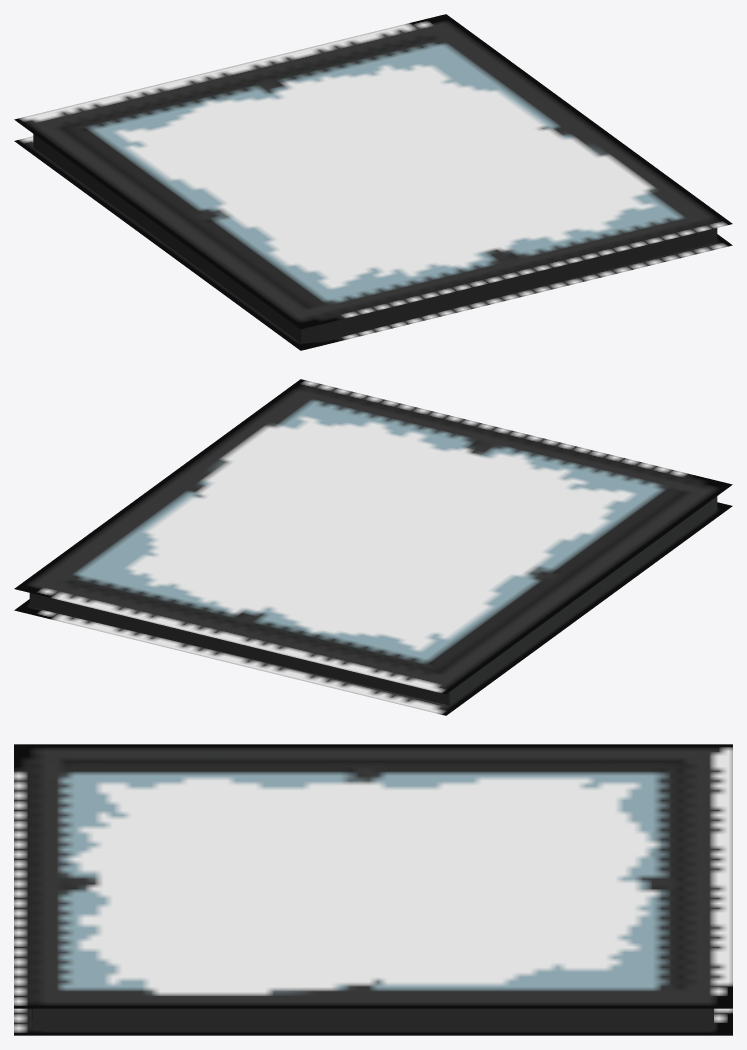
The model's file is pz_native_fixtures_windows_metal_81_frame.obj.
3 renders of one model, top to bottom at view 1: azimuth 30°, elevation 25°; view 2: azimuth 150°, elevation 25°; view 3: azimuth 270°, elevation 25°, orthographic. The views are drawn at different scales.
Parts seen in each view (by area): view 1: pz_native_fixtures_windows_metal_81_frame; view 2: pz_native_fixtures_windows_metal_81_frame; view 3: pz_native_fixtures_windows_metal_81_frame.
Part boxes in pixels (bbox=[...]): pz_native_fixtures_windows_metal_81_frame: bbox=[14, 14, 732, 350]; pz_native_fixtures_windows_metal_81_frame: bbox=[14, 379, 732, 715]; pz_native_fixtures_windows_metal_81_frame: bbox=[14, 744, 732, 1035].
Bounding box in the file's own units: 0.8438 × 0.04 × 0.9696.
1 material, 1 textured.
